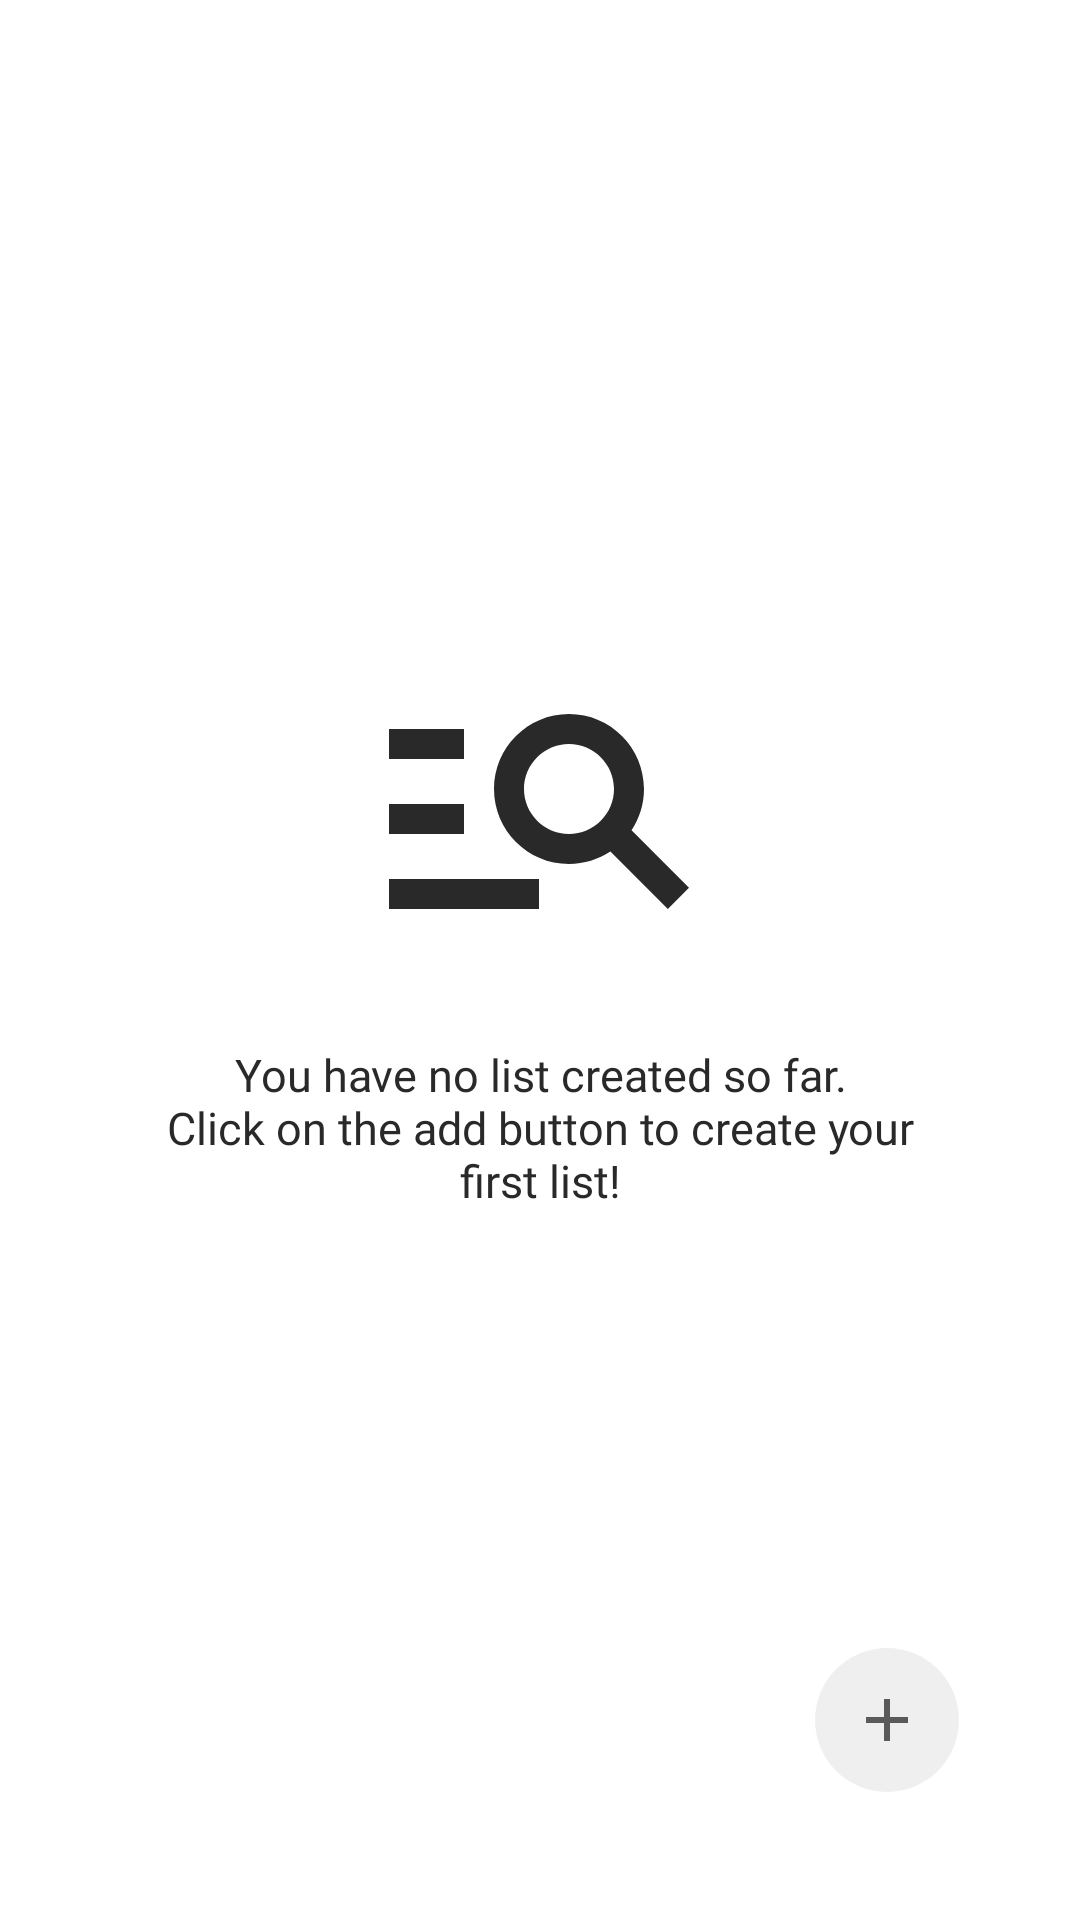

Icons on this 1080 × 1920 Android screen, each with its box as bbox(x1, y1, x2, y2):
add: bbox(815, 1648, 959, 1792)
search manage: bbox(389, 714, 689, 909)
